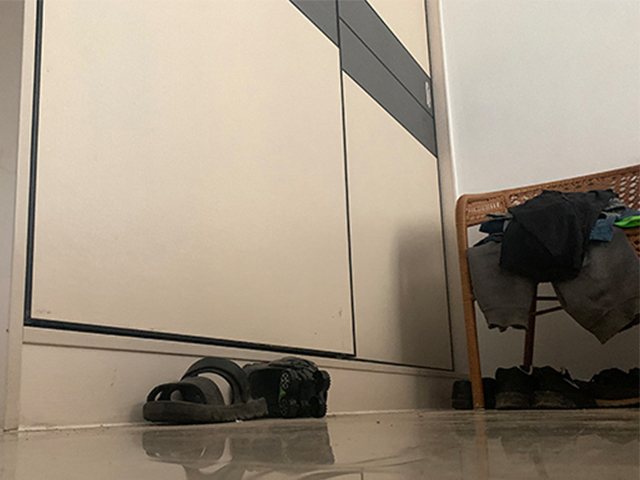cabinet: (1, 1, 455, 430)
slippers: (142, 357, 269, 424)
stool: (457, 161, 640, 409)
